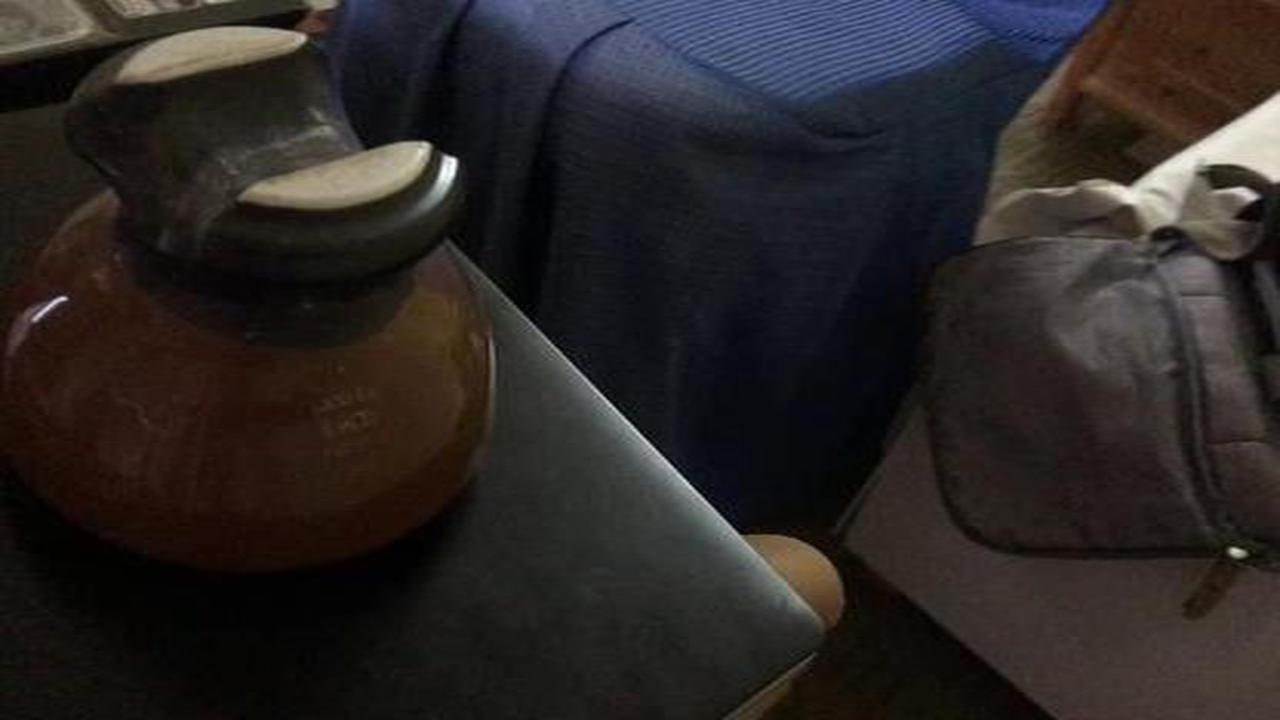insulator_pin: (6, 20, 511, 592)
